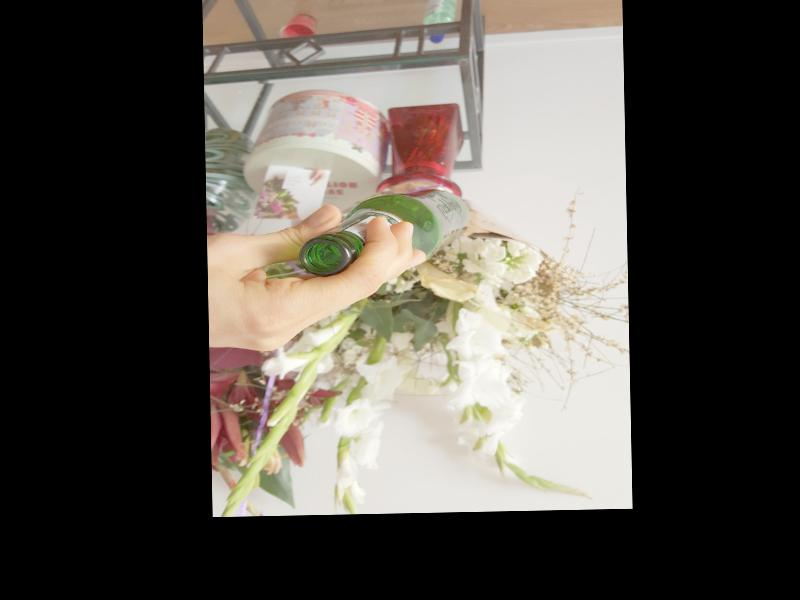Beer: (298, 187, 471, 275)
